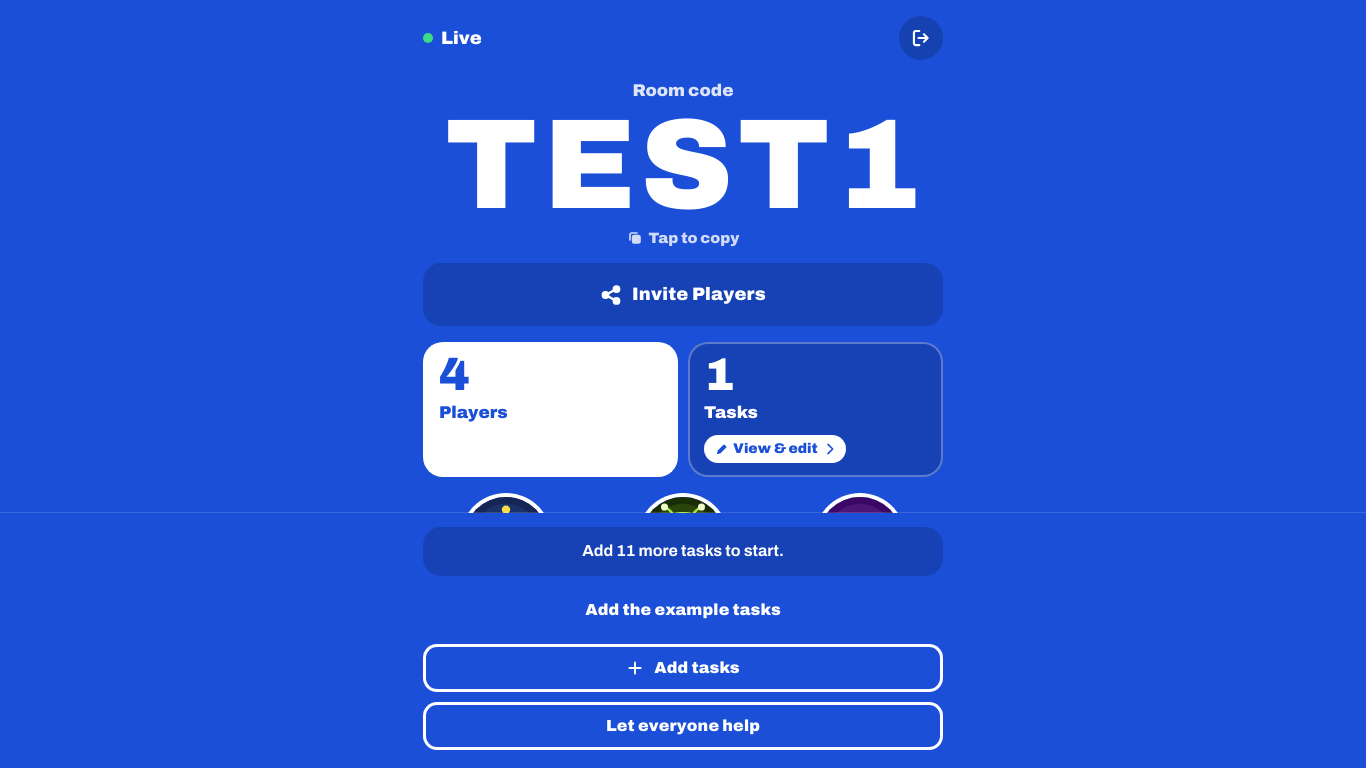
Test case: PreGamePage › Task Creation (Host) › shows and removes an Other task in its optional section
The width and height of the screenshot is (1366, 768).
Click the button "Tasks 1 View & edit".
click(816, 410)  # box left=688, top=342, right=943, bottom=477
(page scrolled)
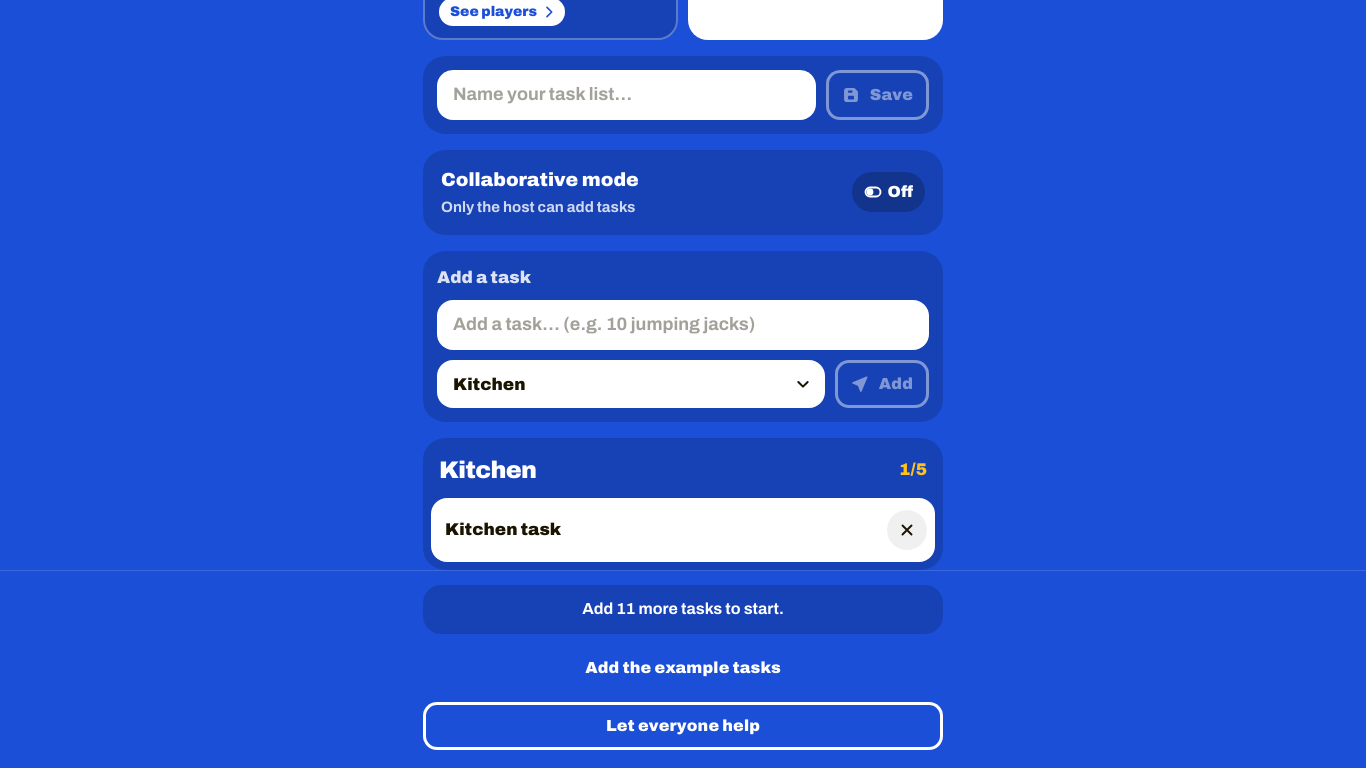
Select "Other" in the dropdown at (631, 384), box left=437, top=360, right=825, bottom=408
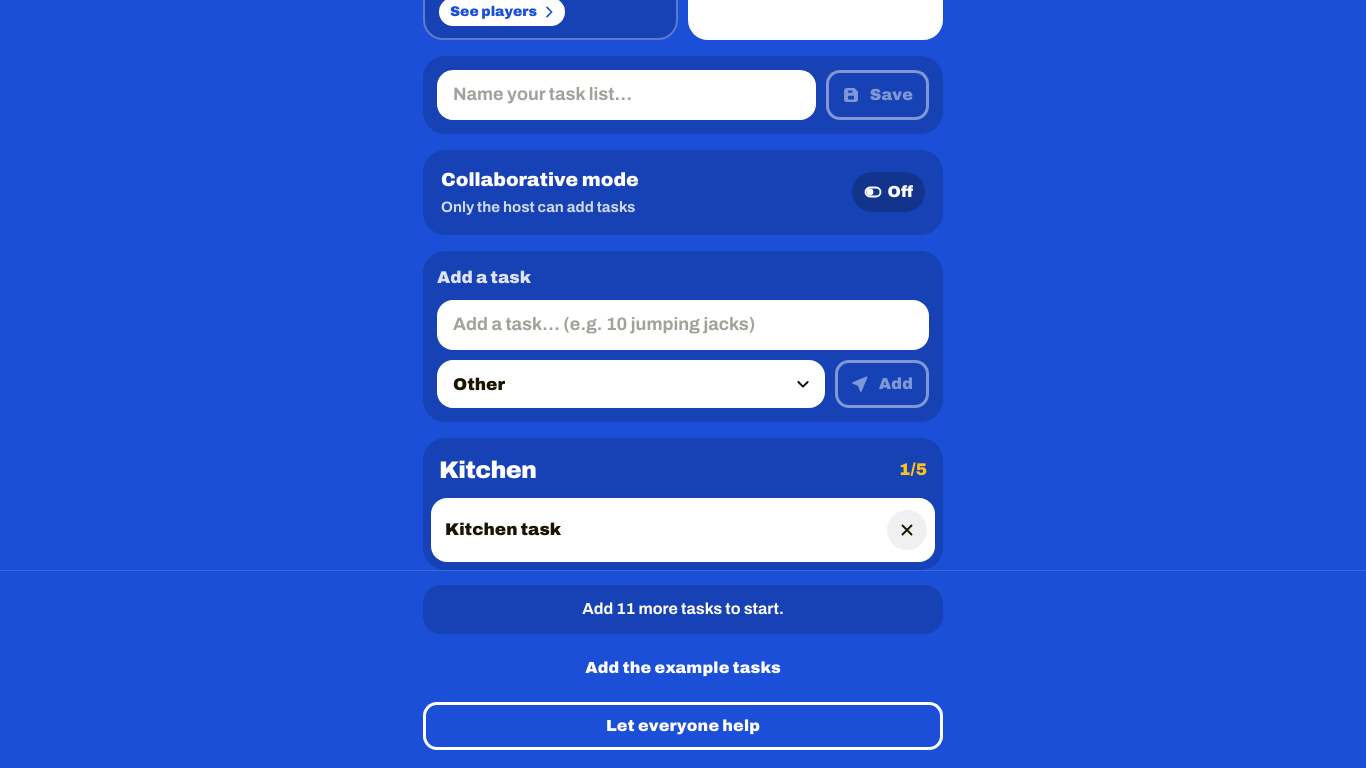
Type "Do ten jumping jacks" into the field with placeholder "Add a task… (e.g. 10 jumping jacks)".
click(683, 325); type("Do ten jumping jacks")  # box left=437, top=300, right=929, bottom=350
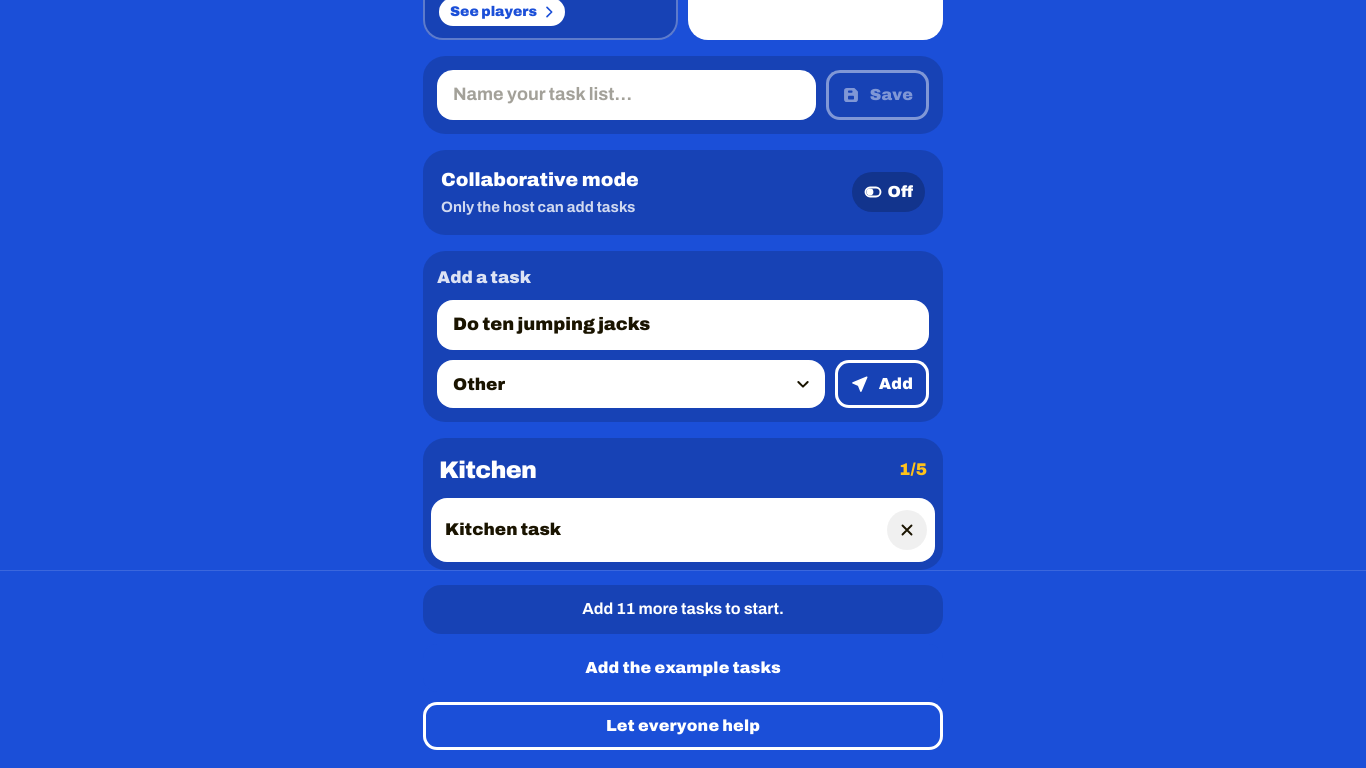
Click the button titled "Add task".
click(882, 384)  # box left=835, top=360, right=929, bottom=408
(page scrolled)
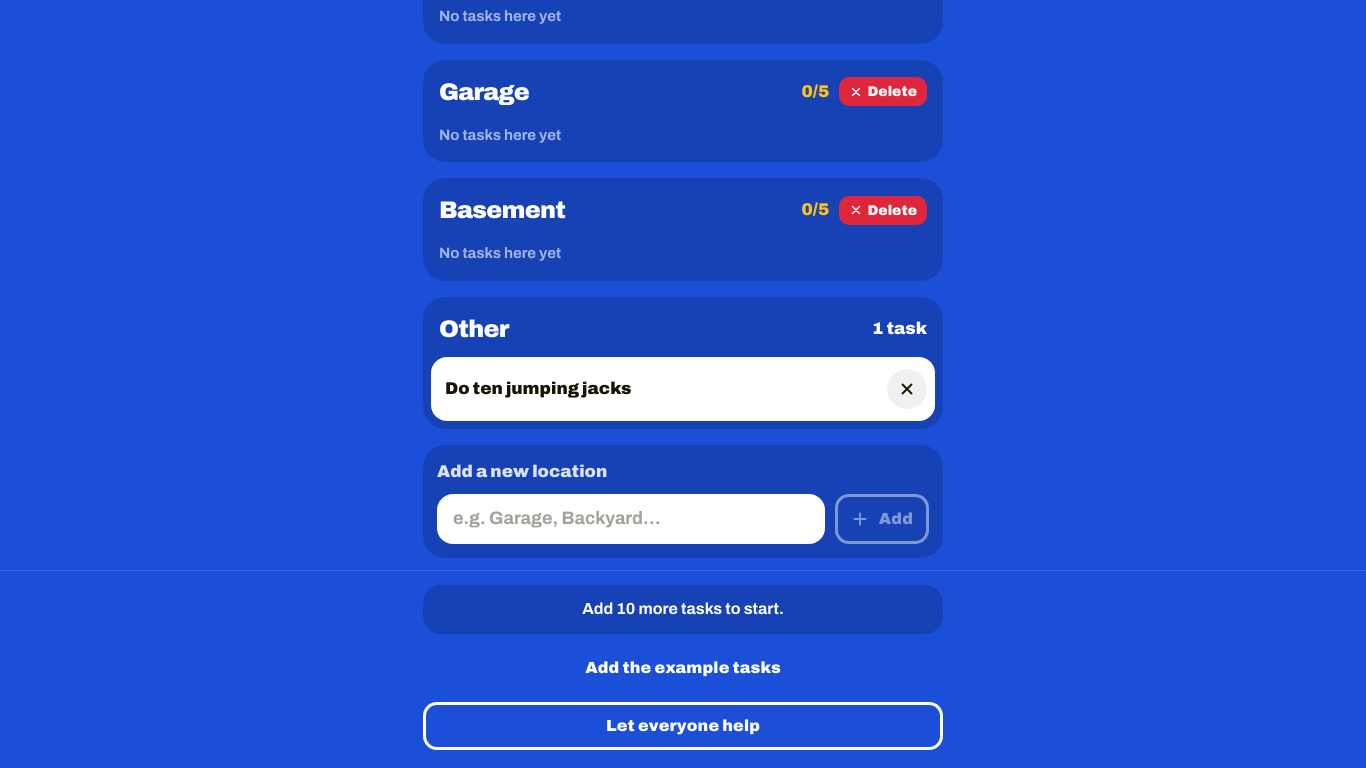
Expected: the text "Do ten jumping jacks" is shown, left=445, top=379, right=631, bottom=398
Expected: the text "1 task" is shown, left=872, top=316, right=927, bottom=341
Click the button titled "Remove task".
click(907, 389)  # box left=887, top=369, right=927, bottom=409
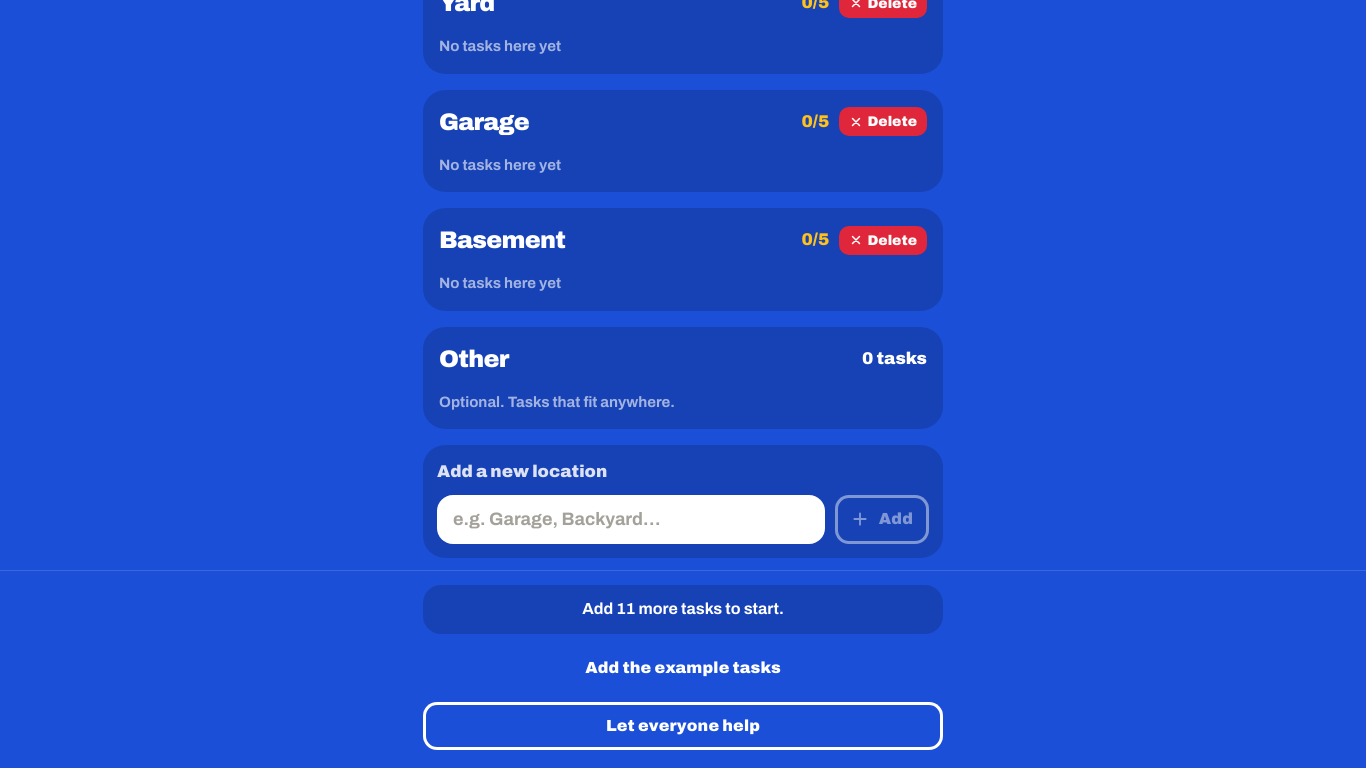
Expected: the text "Do ten jumping jacks" is gone
Expected: the text "0 tasks" is shown, left=862, top=346, right=927, bottom=371
